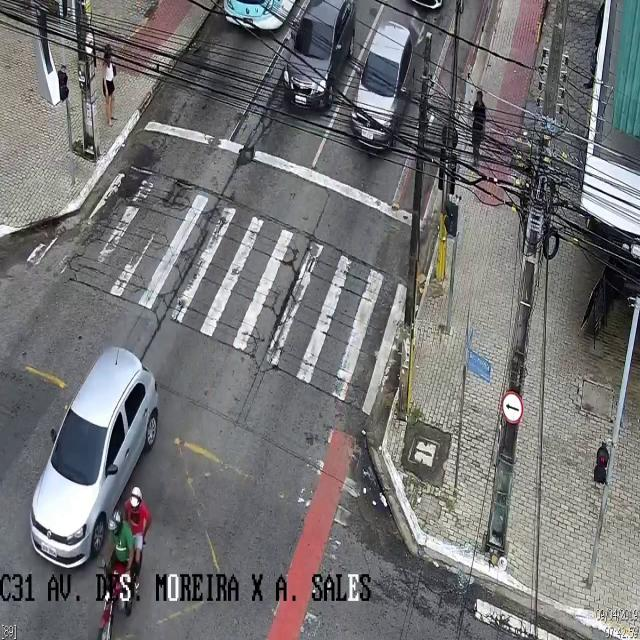Bus: (212, 0, 301, 36)
Car: (30, 345, 158, 572), (351, 23, 413, 157), (284, 1, 356, 111)
Motorcycle: (96, 485, 151, 639)
